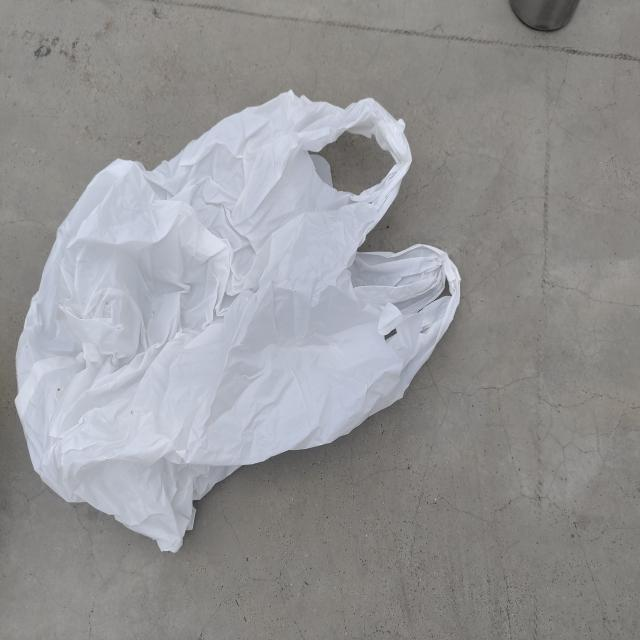plastic: (9, 63, 469, 629)
